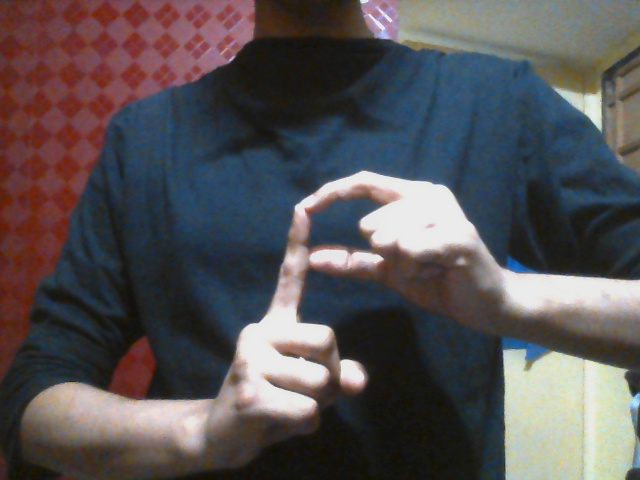P: (215, 170, 485, 469)
